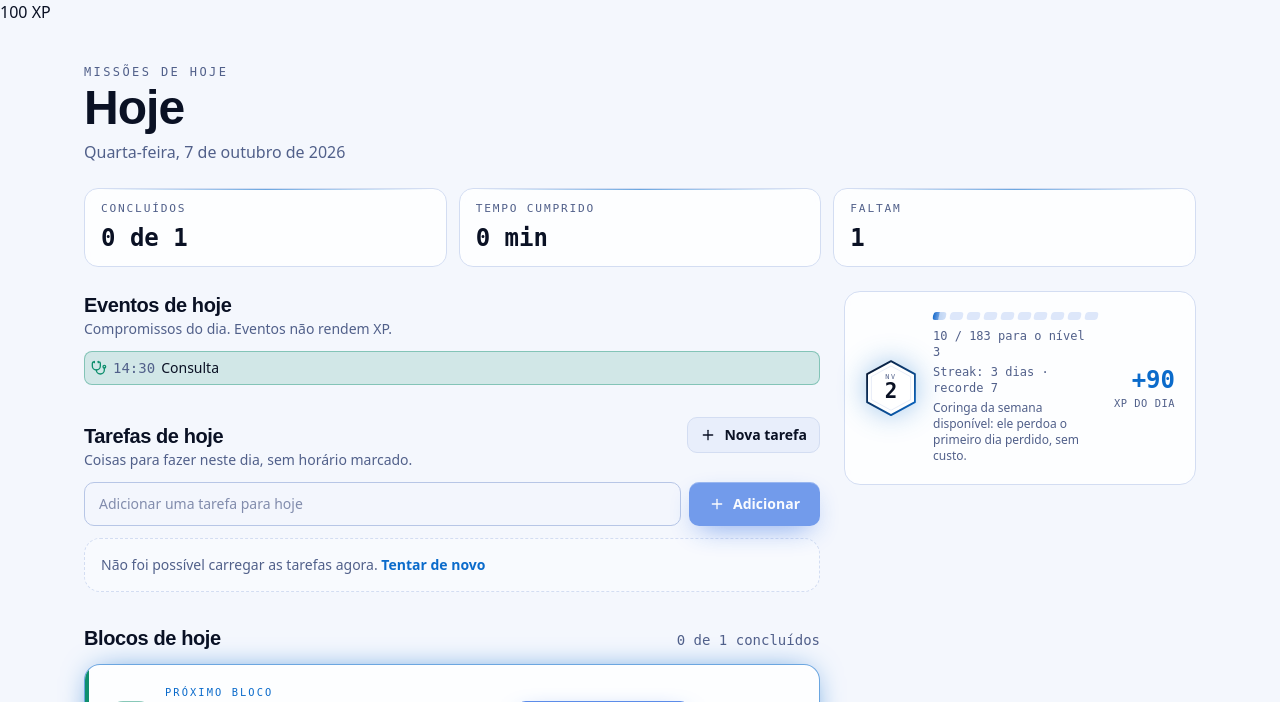
Test: TodayPage › eventos do calendário › editar um evento fecha o painel de detalhes e abre o formulário com os dados
The width and height of the screenshot is (1280, 702).
Click the button with aria-label "Evento: Consulta".
click(134, 368)  # box [84,351,820,385]
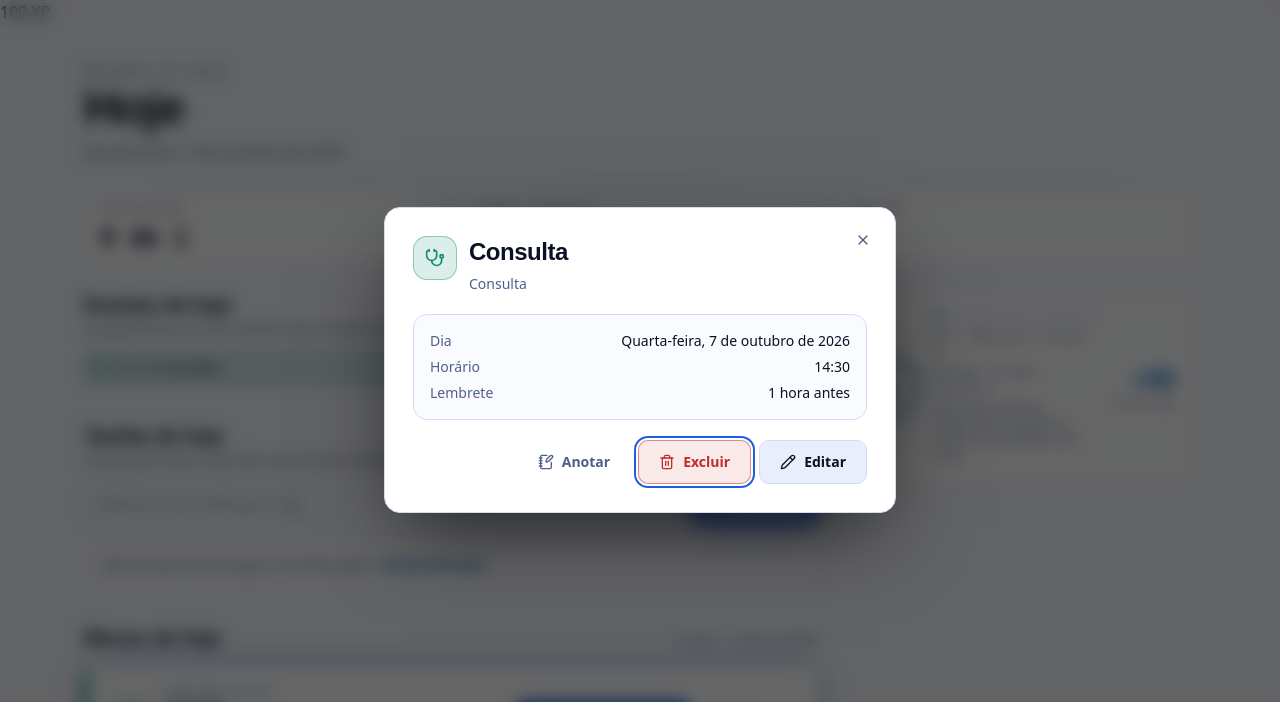
Click the button "Editar".
click(813, 462)  # box [759,440,867,484]
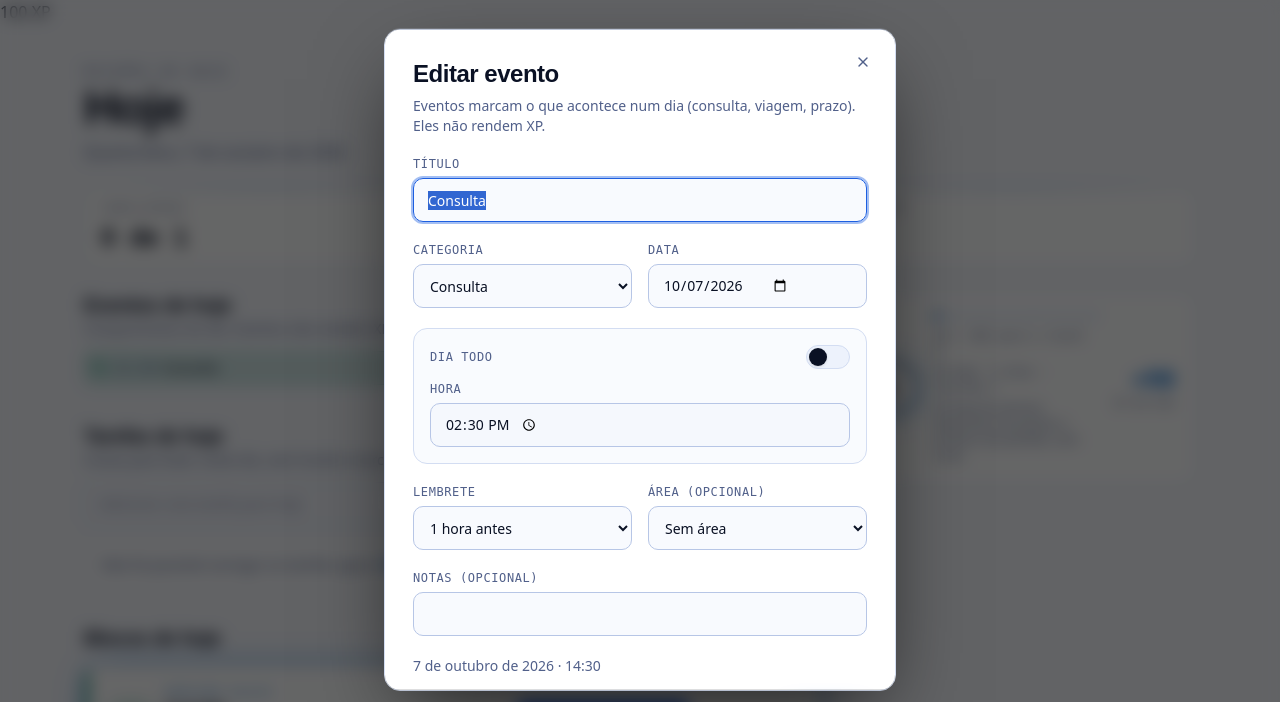
Result: the heading "Editar evento" is shown at [413,60,559,87]
Result: the number of dialogs is 1 at [384,29,896,691]
Result: the field labelled "Título" holds "Consulta" at [413,178,867,222]
